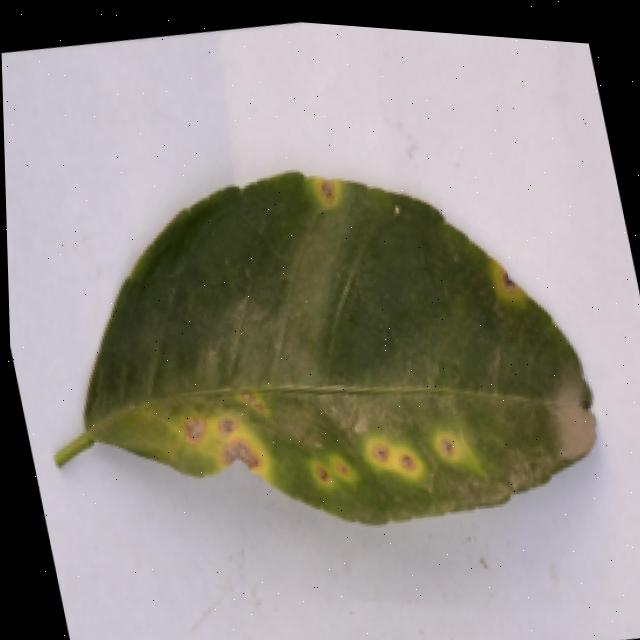canker: (59, 172, 591, 521), (281, 398, 485, 511), (165, 377, 267, 507), (303, 161, 348, 221), (483, 256, 534, 304)
